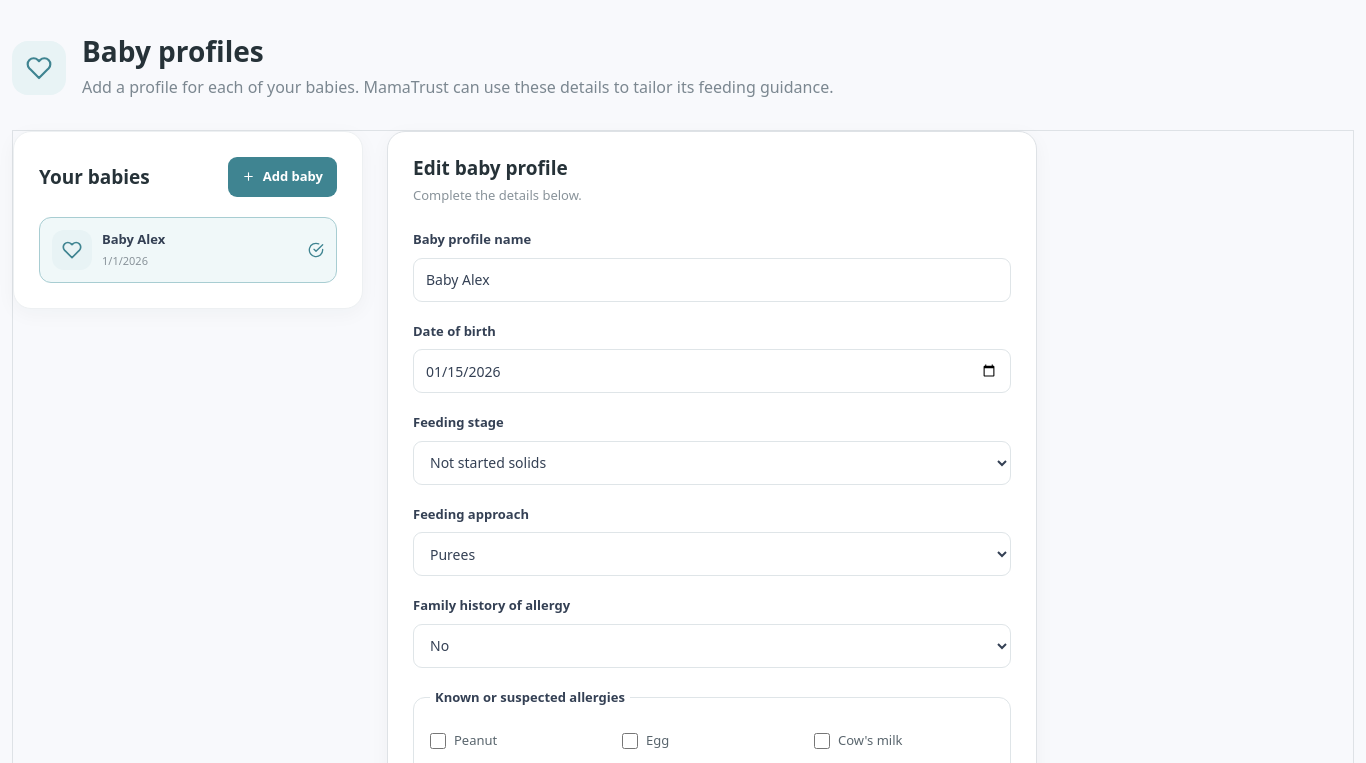
Test case: Profile Page › updates an existing profile without creating a duplicate
Expected: the text "Baby Alex" is shown, x1=102 y1=230 x2=165 y2=248
Replace the text in the field labelled "Baby profile name" with "Baby Alex Updated" at (712, 280), box x1=413 y1=258 x2=1011 y2=302
(page scrolled)
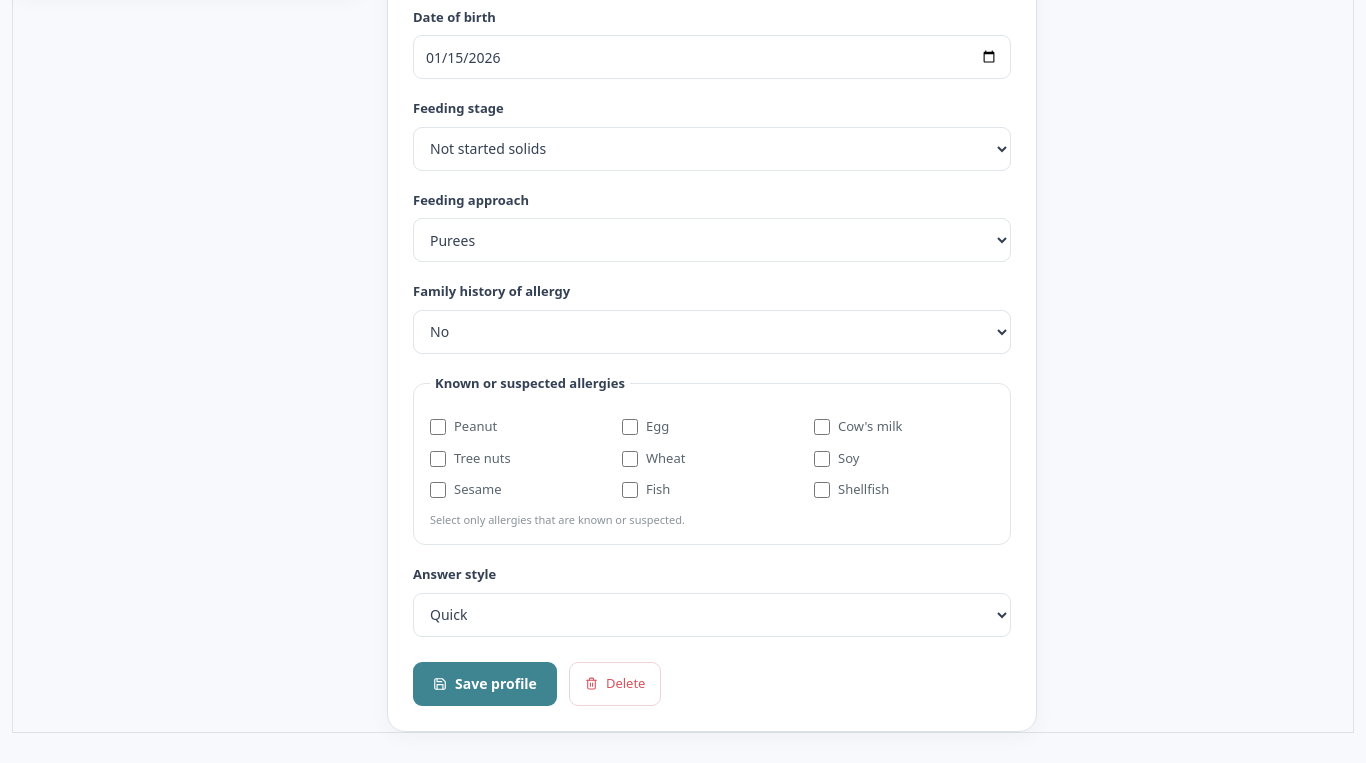
Click the button "Save profile".
click(485, 684)  # box x1=413 y1=662 x2=557 y2=706
(page scrolled)
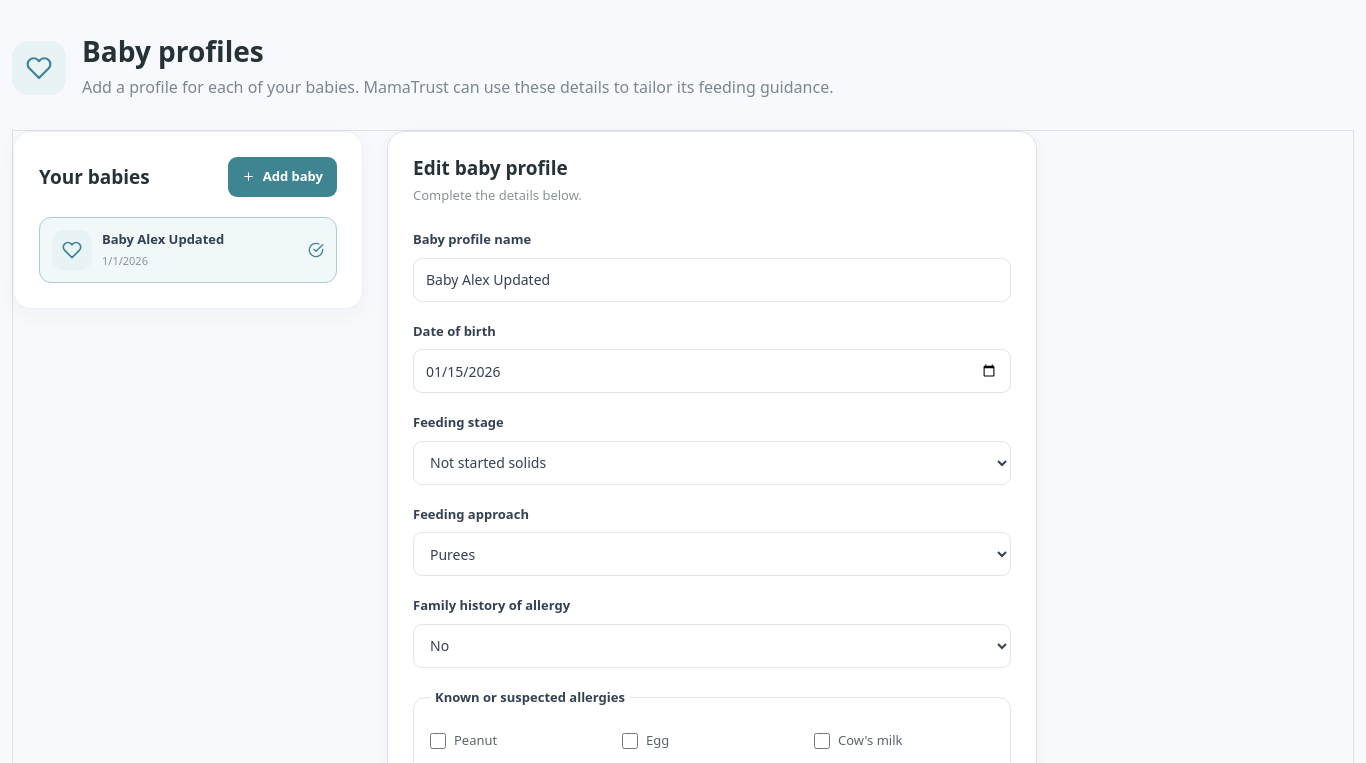
Now the text "Baby Alex" reads "Baby Alex Updated", box x1=102 y1=230 x2=224 y2=248
